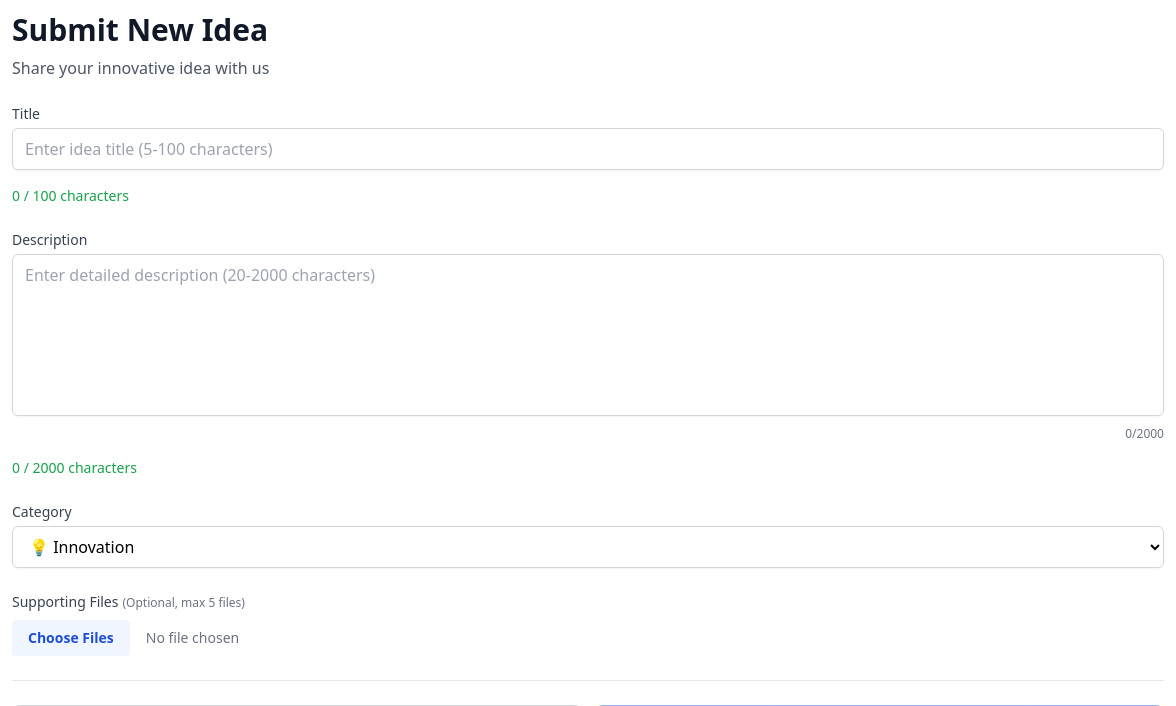
Scenario: IdeaForm Component › Character Counting › should display character count for description
In the text box with placeholder "Enter detailed description (20-2000 characters)": (588, 335) left=12, top=254, right=1164, bottom=416, type "This is a description."
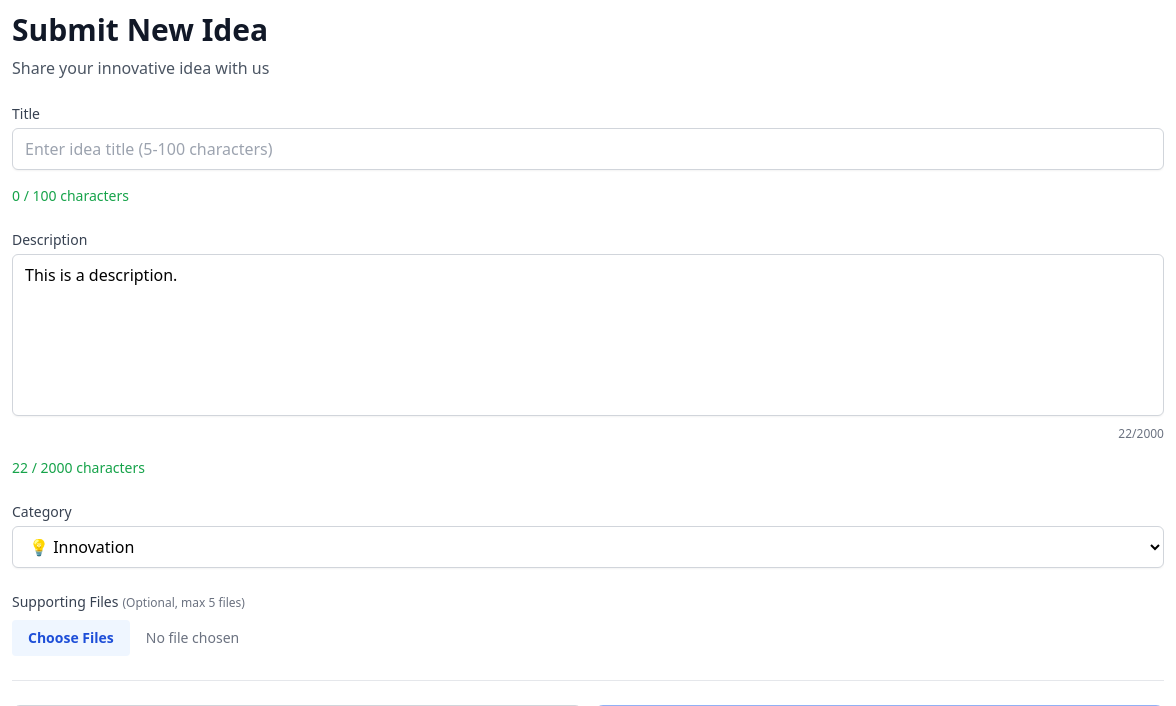
Check: the text "22 / 2000 characters" is shown, box left=12, top=458, right=145, bottom=477
